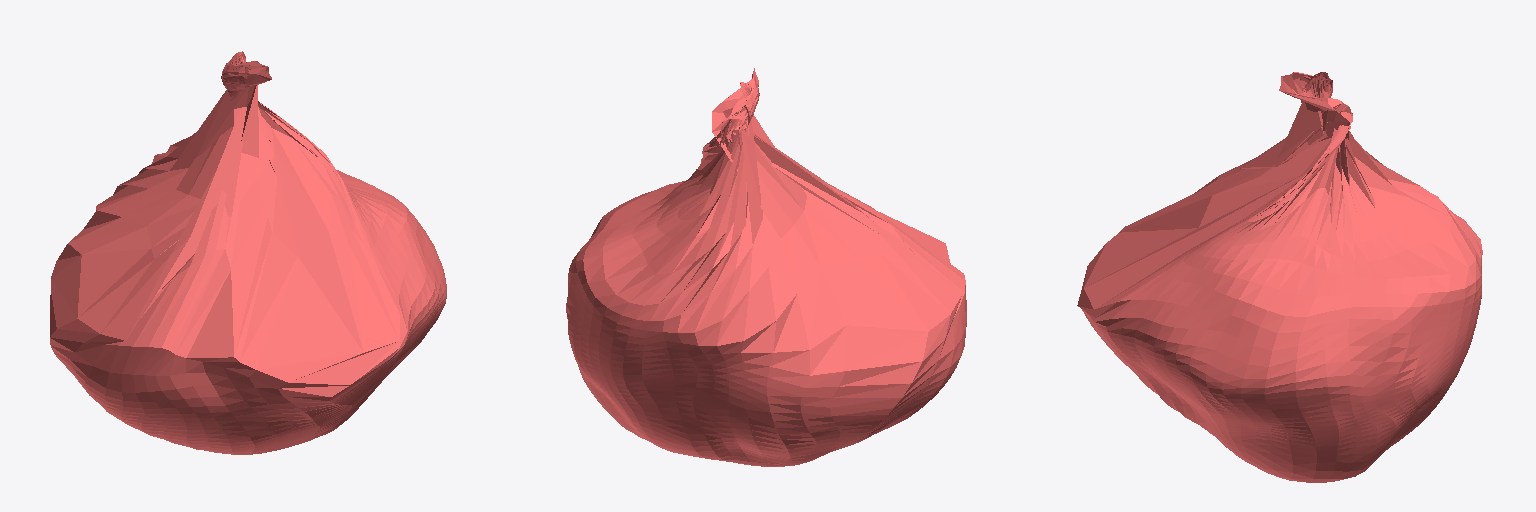
Rendered from trashpinkbag.obj.
3 views of the same model, side by side, from view 1: azimuth 30°, elevation 25°; view 2: azimuth 150°, elevation 25°; view 3: azimuth 270°, elevation 25° (orthographic).
Visible parts, largest first — view 1: pSphere1; view 2: pSphere1; view 3: pSphere1.
Part boxes in pixels (bbox=[...]): pSphere1: bbox=[50, 51, 446, 454]; pSphere1: bbox=[566, 68, 966, 466]; pSphere1: bbox=[1077, 72, 1482, 482].
Bounding box in the file's own units: 20.85 × 21.15 × 20.69.